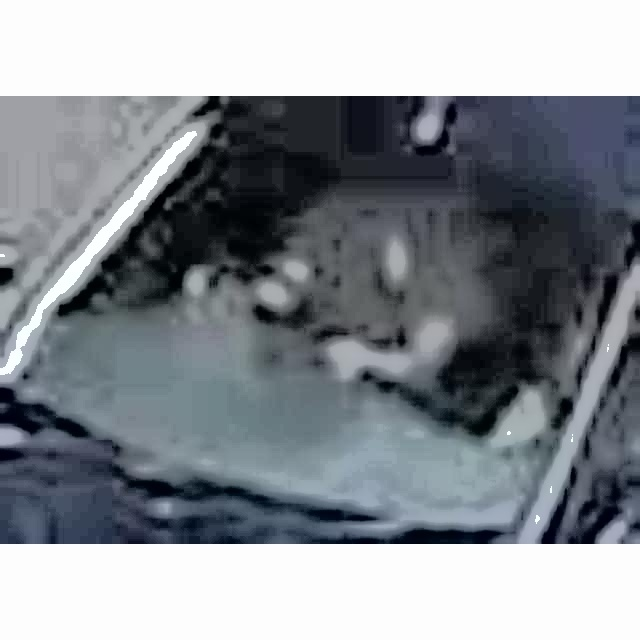tidak-pakai: (242, 132, 476, 395)
